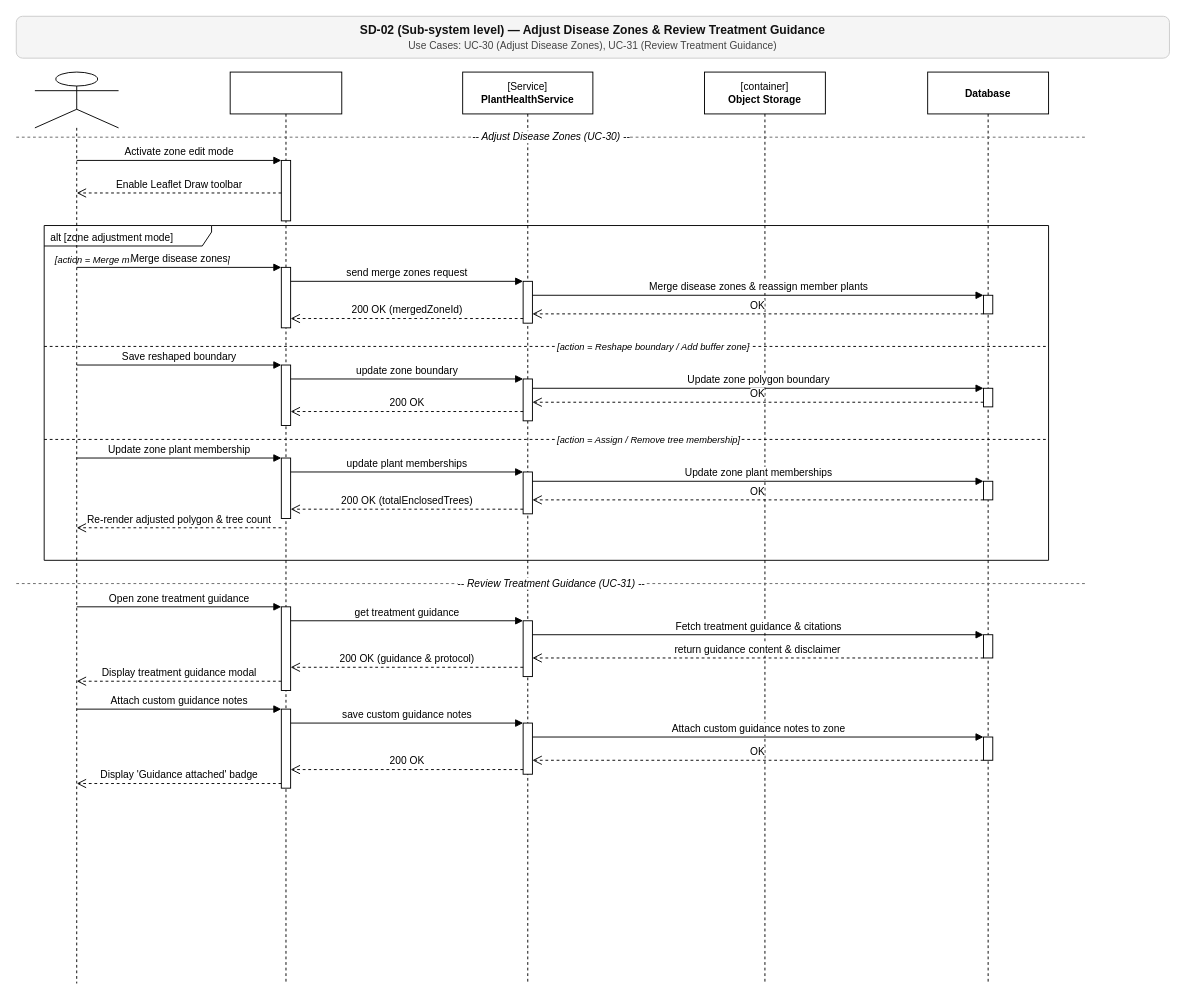
Image size: 1186x1000. Some labels were removed from this diagram. Each missing label, with the box of its shape:
[Interface] Manager UI: (229, 71, 342, 983)
SystemManager: (34, 71, 119, 983)
